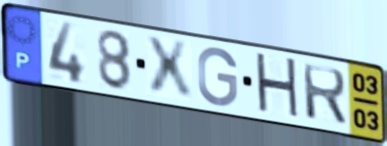4: (45, 19, 90, 87)
8: (94, 27, 133, 92)
G: (196, 45, 240, 109)
H: (253, 50, 303, 124)
R: (300, 61, 349, 129)
X: (142, 34, 196, 102)
